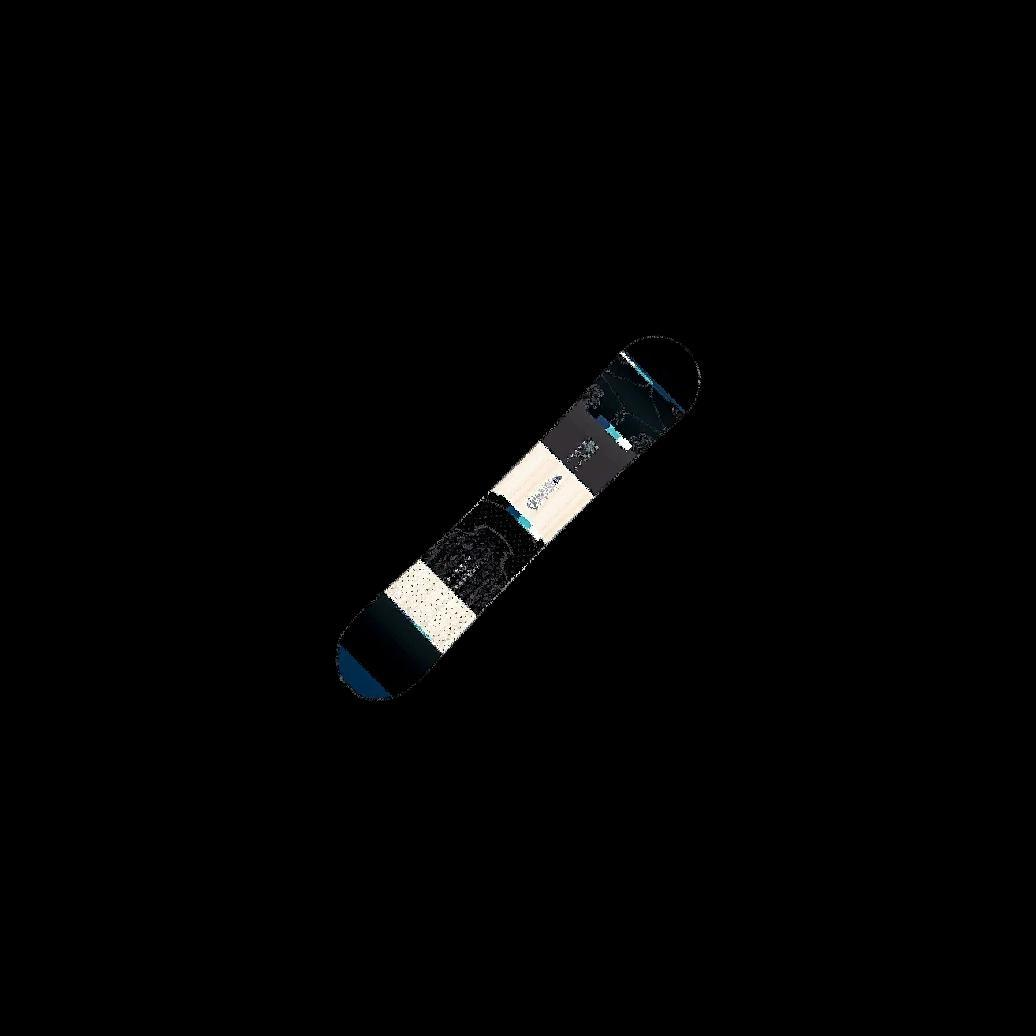Snowboard: (333, 332, 701, 703)
